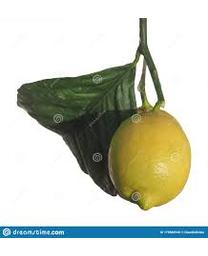lemon: (108, 110, 191, 208)
